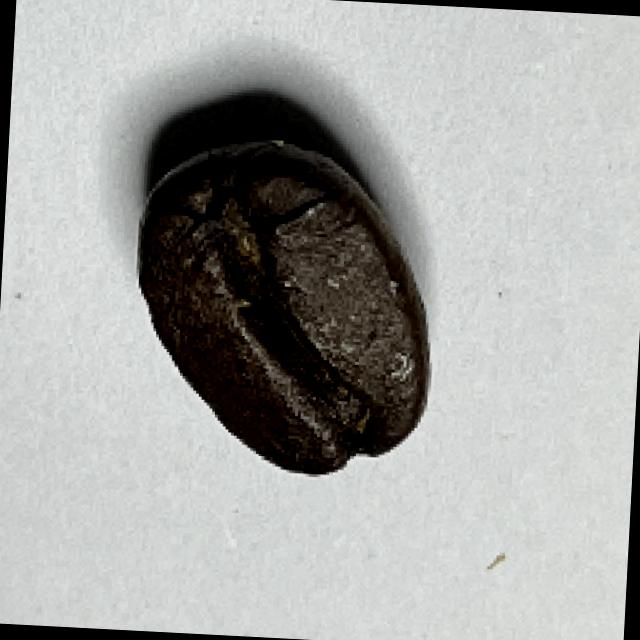bean: (124, 132, 442, 483)
